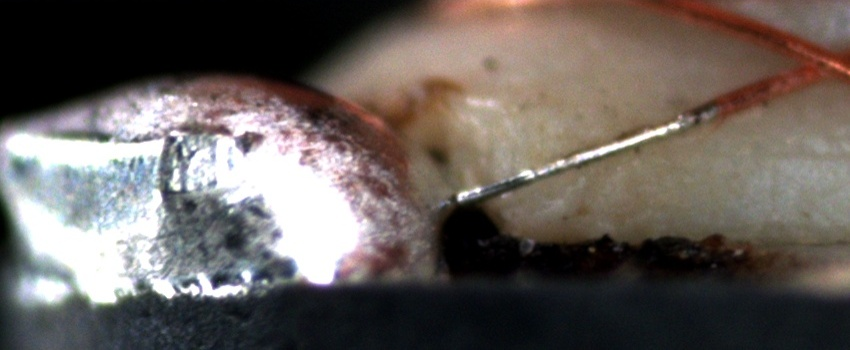CL: (773, 32, 843, 89)
DL: (647, 113, 850, 177)
TS: (452, 101, 719, 205)
